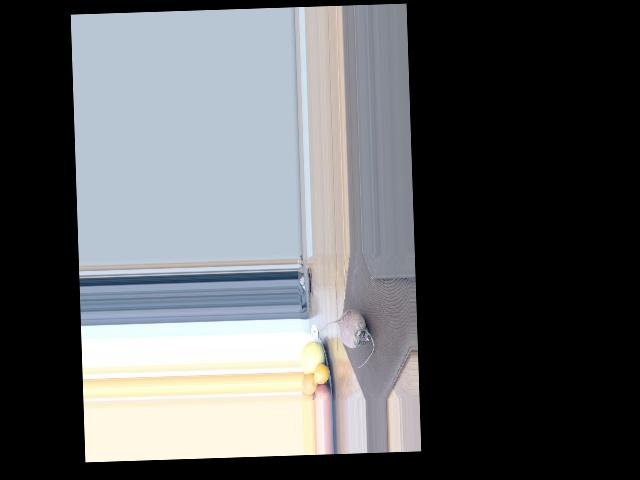beet: (321, 308, 375, 369)
